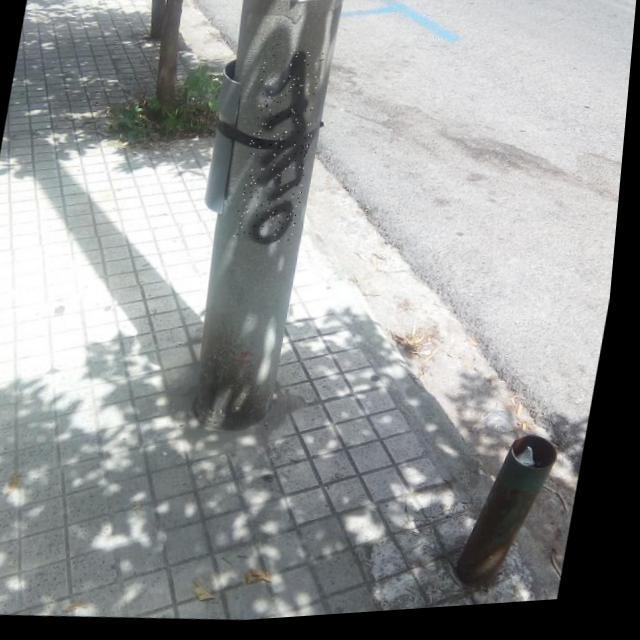-: (237, 51, 328, 251)
